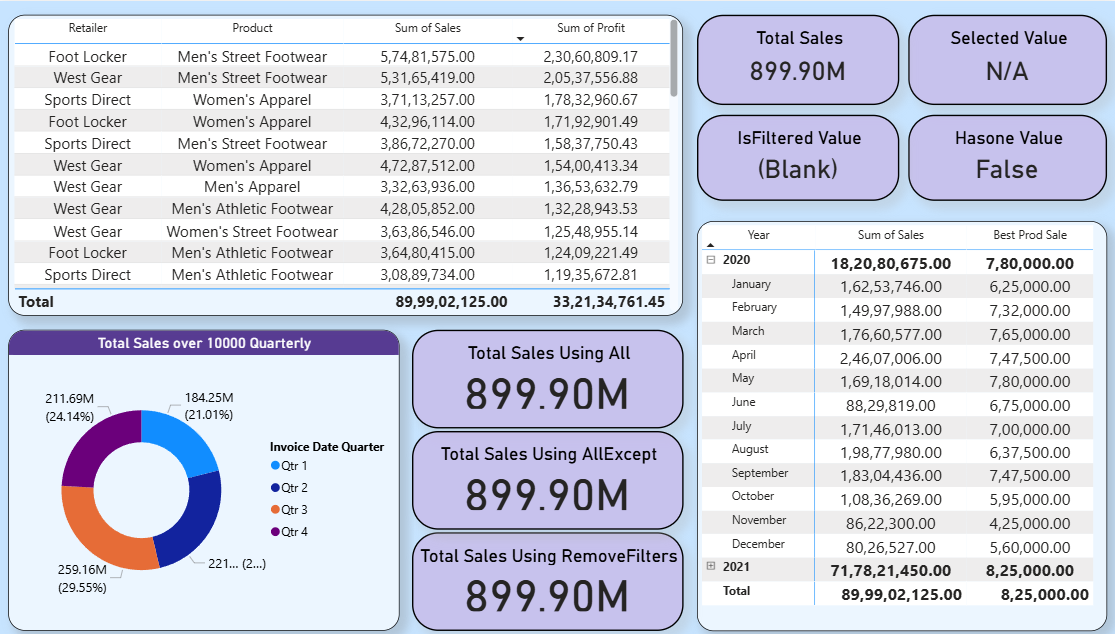

Layout of this report page (visuals, bound fields, positions):
{"tool":"powerbi","page":{"name":"Page 2","canvas":[1280,730],"ordinal":1},"visuals":[{"type":"pivotTable","fields":{"Rows":["Adidas_Sales_Data.Invoice Date.Variation.Date Hierarchy.Year","Adidas_Sales_Data.Invoice Date.Variation.Date Hierarchy.Month"],"Values":["Sum(Adidas_Sales_Data.Sales)","Adidas_Sales_Data.Best Prod Sale"]},"box":[800,251.4,468.6,468.6],"z":0},{"type":"donutChart","title":"Total Sales over 10000 Quarterly","fields":{"Y":["Adidas_Sales_Data.High Sales"],"Category":["Adidas_Sales_Data.Invoice Date.Variation.Date Hierarchy.Quarter","Adidas_Sales_Data.Invoice Date.Variation.Date Hierarchy.Month","Adidas_Sales_Data.Invoice Date.Variation.Date Hierarchy.Day"]},"box":[12.9,375.7,447.1,344.3],"z":1000},{"type":"tableEx","fields":{"Values":["Adidas_Sales_Data.Retailer","Adidas_Sales_Data.Product","Sum(Adidas_Sales_Data.Sales)","Sum(Adidas_Sales_Data.Profit)"]},"box":[12.9,15.7,771.4,344.3],"z":5000},{"type":"card","title":"Selected Value","fields":{"Values":["Adidas_Sales_Data.Sales sv"]},"box":[1041.4,15.7,227.1,102.9],"z":6000},{"type":"card","title":"Total Sales","fields":{"Values":["Adidas_Sales_Data.Total Sales"]},"box":[800,15.7,231.4,102.9],"z":7000},{"type":"card","title":"Hasone Value","fields":{"Values":["Adidas_Sales_Data.Hasone Value"]},"box":[1041.4,130,227.1,98.6],"z":8000},{"type":"card","title":"IsFiltered Value","fields":{"Values":["Adidas_Sales_Data.IsFiltered Value"]},"box":[800,130,231.4,98.6],"z":9000},{"type":"card","title":"Total Sales Using All","fields":{"Values":["Adidas_Sales_Data.All"]},"box":[474.3,375.7,310,112.9],"z":10000},{"type":"card","title":"Total Sales Using RemoveFilters","fields":{"Values":["Adidas_Sales_Data.Remove Filter"]},"box":[474.3,607.1,310,112.9],"z":11000},{"type":"card","title":"Total Sales Using AllExcept","fields":{"Values":["Adidas_Sales_Data.AllExcept"]},"box":[474.3,491.4,310,112.9],"z":12000}]}

Visuals, with their boxes in screenshot pixels (x1, y1, x2, y2), scaled from the page's 1280x730 canvas onto the 1115x634 screenshot:
pivotTable - Adidas_Sales_Data.Invoice Date.Variation.Date Hierarchy.Year x Adidas_Sales_Data.Invoice Date.Variation.Date Hierarchy.Month: box=[697, 218, 1105, 625]
"Total Sales over 10000 Quarterly" donutChart: box=[11, 326, 401, 625]
tableEx - Adidas_Sales_Data.Retailer x Adidas_Sales_Data.Product: box=[11, 14, 683, 313]
"Selected Value" card: box=[907, 14, 1105, 103]
"Total Sales" card: box=[697, 14, 898, 103]
"Hasone Value" card: box=[907, 113, 1105, 199]
"IsFiltered Value" card: box=[697, 113, 898, 199]
"Total Sales Using All" card: box=[413, 326, 683, 424]
"Total Sales Using RemoveFilters" card: box=[413, 527, 683, 625]
"Total Sales Using AllExcept" card: box=[413, 427, 683, 525]
